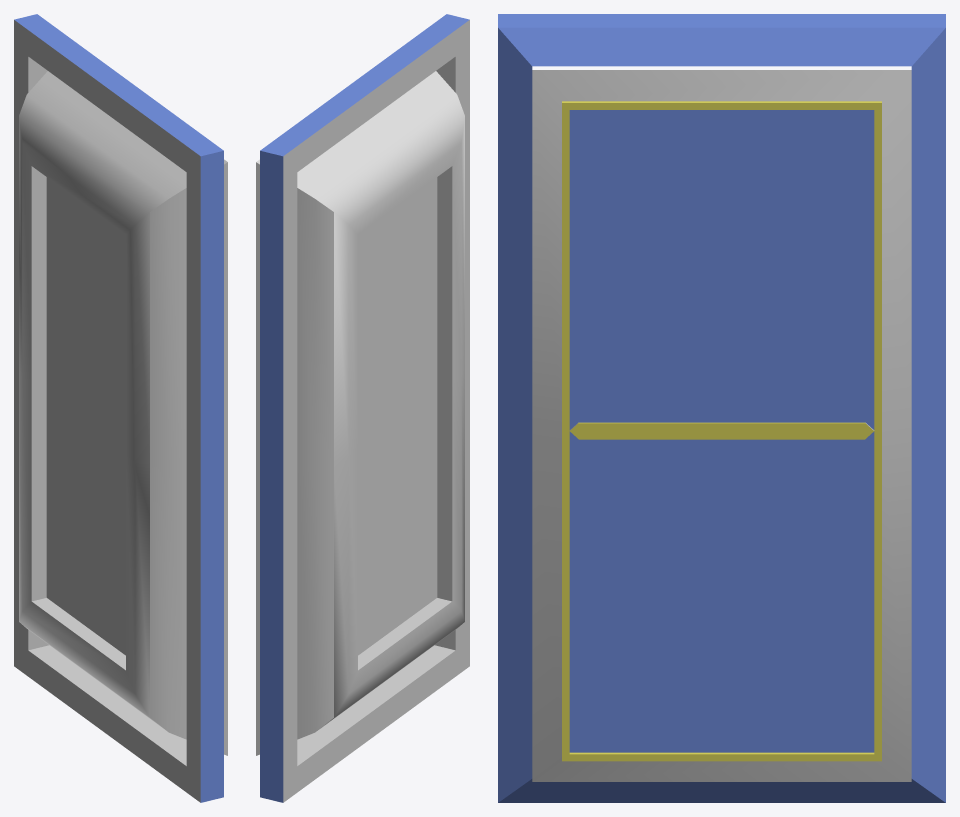
The model's file is OvenDoor.fbx.
The picture shows the model from 3 angles, left to right: view 1: azimuth 30°, elevation 25°; view 2: azimuth 150°, elevation 25°; view 3: azimuth 270°, elevation 25°; orthographic projection. The views are drawn at different scales.
Parts seen in each view (by area): view 1: OvenDoor, OvenSurfaceDoor; view 2: OvenDoor, OvenSurfaceDoor; view 3: OvenDoor, OvenSurfaceDoor.
Boxes of the visible parts, x1,y1,x2,y2 form: OvenDoor: (19,71,227,755); OvenSurfaceDoor: (14,14,223,802); OvenDoor: (256,71,464,755); OvenSurfaceDoor: (260,14,469,802); OvenDoor: (532,70,911,781); OvenSurfaceDoor: (498,14,945,802).
Bounding box in the file's own units: 0.2927 × 2.24 × 1.17.
